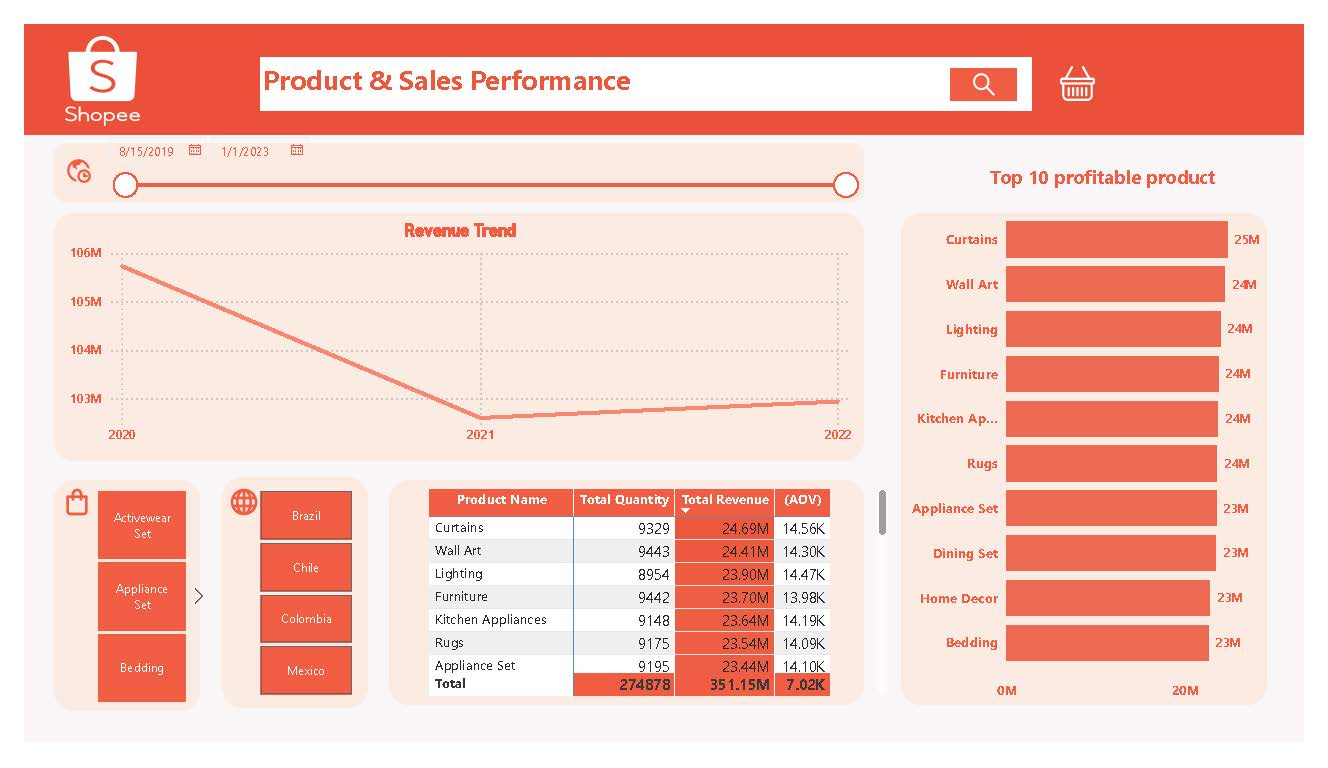

This screenshot's page, from the dashboard's own definition file:
{"tool":"powerbi","page":{"name":"Product & Sales Performance","canvas":[1280,720],"ordinal":1},"visuals":[{"type":"barChart","fields":{"Category":["purchase.product_name"],"Y":["purchase.Total Revenue"]},"box":[868.6,167.3,404.6,517.4],"z":0},{"type":"lineChart","title":"Revenue Trend","fields":{"Category":["purchase.order_date.Variation.Date Hierarchy.Year","purchase.order_date.Variation.Date Hierarchy.Quarter","purchase.order_date.Variation.Date Hierarchy.Month"],"Y":["purchase.Total Revenue"]},"box":[40,195.6,793.3,233.3],"z":1000},{"type":"pivotTable","fields":{"Rows":["purchase.product_name"],"Values":["Sum(purchase.quantity)","purchase.Total Revenue","purchase.Average Order Value (AOV)"]},"box":[400.9,460,467.3,216.4],"z":2000},{"type":"slicer","fields":{"Values":["purchase.order_date"]},"box":[73.3,103.3,770,74.4],"z":3000},{"type":"slicer","fields":{"Values":["purchase.product_name"]},"box":[48.9,460,136.7,224.4],"z":4000},{"type":"slicer","fields":{"Values":["customer.country"]},"box":[211.1,460,141.1,216.7],"z":5000},{"type":"textbox","box":[234.4,32.1,446.4,55.4],"z":6000},{"type":"textbox","box":[916.8,134.8,324.5,43.4],"z":7000}]}

Visuals, with their boxes in screenshot pixels (x1, y1, x2, y2), scaled from the page's 1280x720 canvas onto the 1328x768 screenshot:
barChart - purchase.product_name x purchase.Total Revenue: (x1=901, y1=178, x2=1321, y2=730)
"Revenue Trend" lineChart: (x1=42, y1=209, x2=865, y2=457)
pivotTable - purchase.product_name x Sum(purchase.quantity): (x1=416, y1=491, x2=901, y2=721)
slicer - purchase.order_date: (x1=76, y1=110, x2=875, y2=190)
slicer - purchase.product_name: (x1=51, y1=491, x2=193, y2=730)
slicer - customer.country: (x1=219, y1=491, x2=365, y2=722)
textbox: (x1=243, y1=34, x2=706, y2=93)
textbox: (x1=951, y1=144, x2=1288, y2=190)
